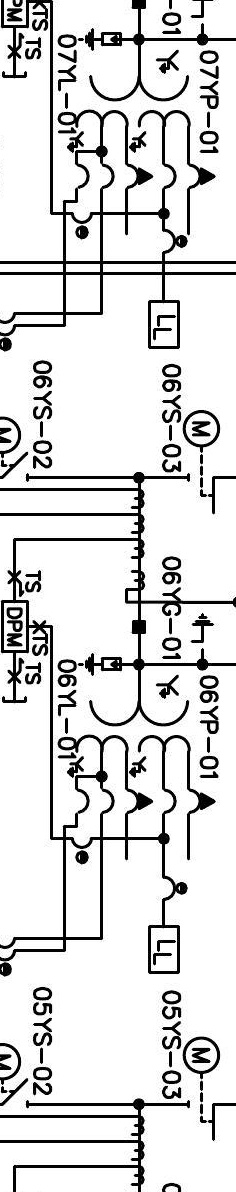115_1way_ds_w_motor: (181, 408, 220, 515), (181, 1035, 220, 1142)
115_gs: (190, 612, 215, 653)
115_la: (77, 27, 122, 52), (77, 652, 122, 677)
115_vt_3p: (66, 674, 217, 815), (67, 49, 217, 190)
DPM: (1, 600, 29, 653)
LL: (148, 299, 181, 350), (148, 925, 181, 975)
